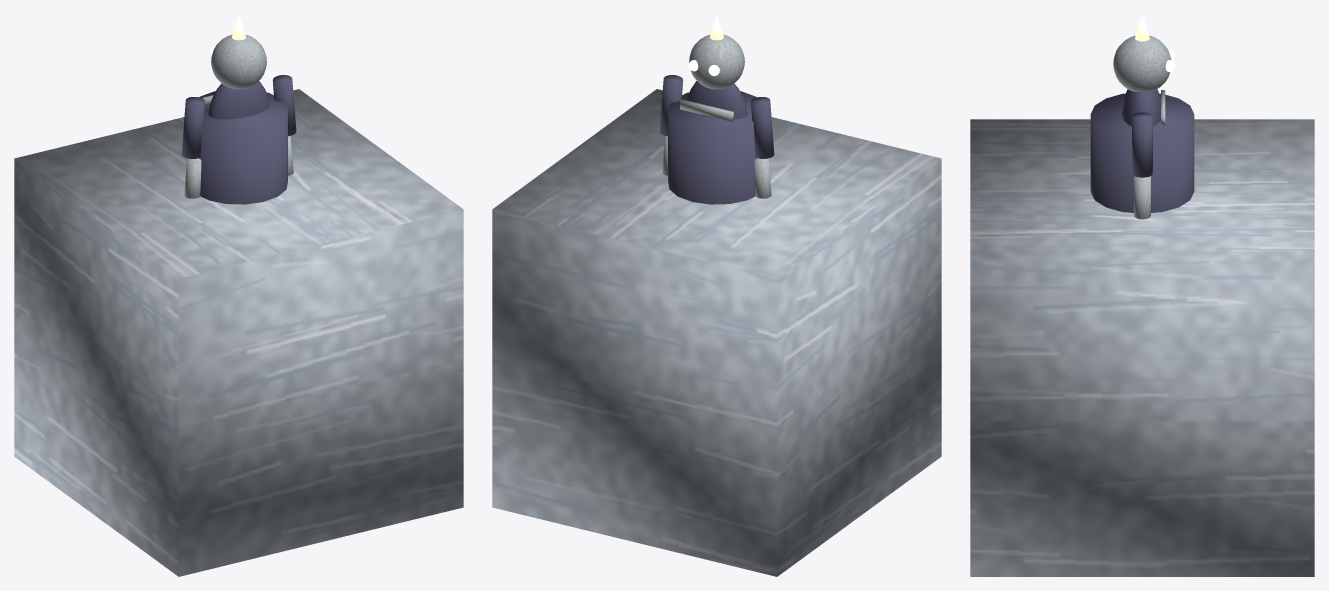
Rendered from koschei.glb.
3 renders of one model, left to right at view 1: azimuth 30°, elevation 25°; view 2: azimuth 150°, elevation 25°; view 3: azimuth 270°, elevation 25°, orthographic. The views are drawn at different scales.
Visible parts, largest first — view 1: Cube, Robe, Skull, Torso, UpperArmL, UpperArmR, ForearmL; view 2: Cube, Robe, Skull, Torso, UpperArmL, UpperArmR, ForearmL, Rib2; view 3: Cube, Robe, Skull, UpperArmR, Torso, ForearmR.
Part boxes in pixels (<box>): Cube: <box>14,89,463,576</box>; Robe: <box>198,91,287,204</box>; Skull: <box>211,34,266,89</box>; Torso: <box>208,81,269,119</box>; UpperArmL: <box>181,97,205,158</box>; UpperArmR: <box>272,75,296,136</box>; ForearmL: <box>184,158,201,198</box>; Cube: <box>492,89,941,576</box>; Robe: <box>668,91,757,204</box>; Skull: <box>689,34,744,89</box>; Torso: <box>687,81,747,119</box>; UpperArmL: <box>750,97,774,158</box>; UpperArmR: <box>659,75,683,136</box>; ForearmL: <box>754,158,771,198</box>; Rib2: <box>680,99,733,121</box>; Cube: <box>970,119,1314,576</box>; Robe: <box>1090,93,1194,212</box>; Skull: <box>1113,35,1171,91</box>; UpperArmR: <box>1132,112,1152,177</box>; Torso: <box>1122,89,1161,126</box>; ForearmR: <box>1134,176,1150,219</box>.
Bounding box in the file's own units: 1.21 × 1.9 × 1.21.
Materials: 6 (2 with a texture image).
